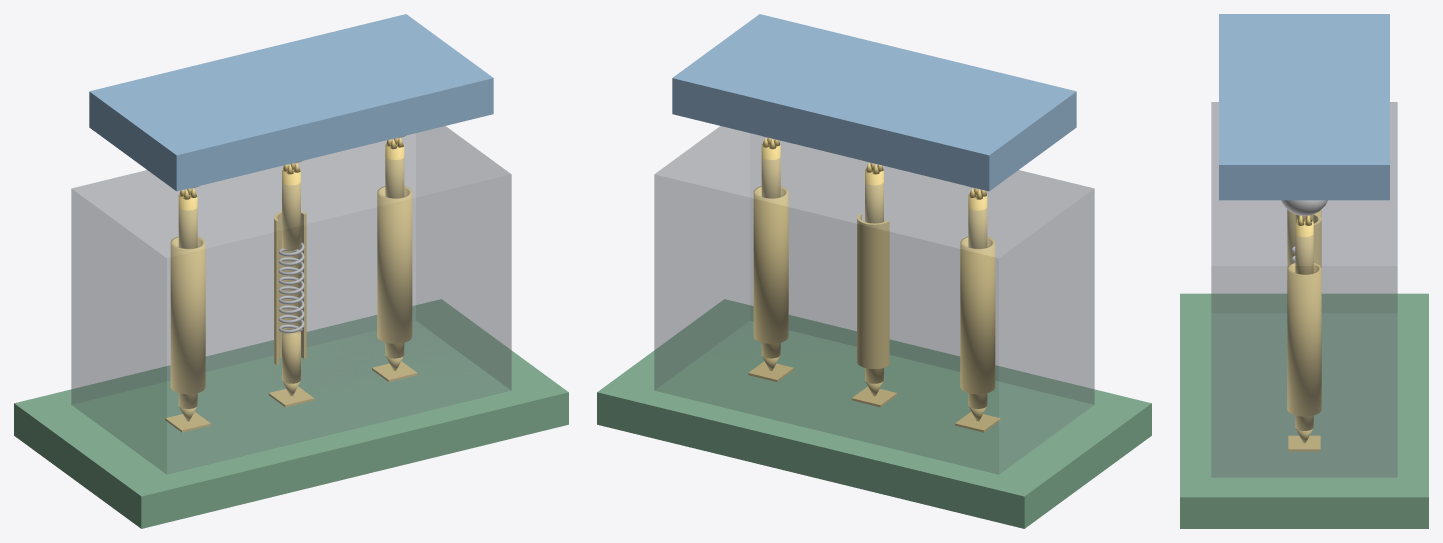
The model's file is pogo_pin.glb.
3 renders of one model, left to right at view 1: azimuth 30°, elevation 25°; view 2: azimuth 150°, elevation 25°; view 3: azimuth 270°, elevation 25°, orthographic. The views are drawn at different scales.
Parts seen in each view (by area): view 1: socket_housing, loadboard_body, package_substrate, barrel_0, barrel_2, barrel_1, spring_1, plunger_top_1, plunger_top_2, plunger_top_0, plunger_bottom_1; view 2: socket_housing, loadboard_body, package_substrate, barrel_0, barrel_2, barrel_1, plunger_top_2, plunger_top_0, plunger_top_1; view 3: loadboard_body, socket_housing, package_substrate, barrel_2, plunger_top_2, ball_2, lb_pad_2, barrel_0, barrel_1.
Part boxes in pixels (left/top/right/bottom): socket_housing: left=71, top=126, right=511, bottom=474; loadboard_body: left=14, top=299, right=568, bottom=528; package_substrate: left=89, top=14, right=493, bottom=191; barrel_0: left=170, top=236, right=205, bottom=394; barrel_2: left=377, top=186, right=412, bottom=343; barrel_1: left=274, top=211, right=306, bottom=365; spring_1: left=279, top=242, right=304, bottom=333; plunger_top_1: left=282, top=169, right=300, bottom=250; plunger_top_2: left=385, top=143, right=404, bottom=198; plunger_top_0: left=178, top=194, right=197, bottom=248; plunger_bottom_1: left=282, top=329, right=300, bottom=383; socket_housing: left=654, top=126, right=1094, bottom=474; loadboard_body: left=597, top=299, right=1151, bottom=528; package_substrate: left=672, top=14, right=1076, bottom=191; barrel_0: left=960, top=236, right=995, bottom=394; barrel_2: left=753, top=186, right=788, bottom=343; barrel_1: left=857, top=214, right=889, bottom=368; plunger_top_2: left=761, top=143, right=780, bottom=198; plunger_top_0: left=968, top=194, right=987, bottom=248; plunger_top_1: left=865, top=169, right=883, bottom=223; loadboard_body: left=1180, top=293, right=1428, bottom=528; socket_housing: left=1211, top=102, right=1397, bottom=477; package_substrate: left=1219, top=14, right=1389, bottom=200; barrel_2: left=1287, top=262, right=1321, bottom=416; plunger_top_2: left=1295, top=218, right=1313, bottom=274; ball_2: left=1281, top=200, right=1327, bottom=215; lb_pad_2: left=1288, top=435, right=1320, bottom=451; barrel_0: left=1287, top=209, right=1321, bottom=267; barrel_1: left=1313, top=213, right=1321, bottom=267.
Size of the model in its own units: 6.2 by 4.79 by 3.2.
